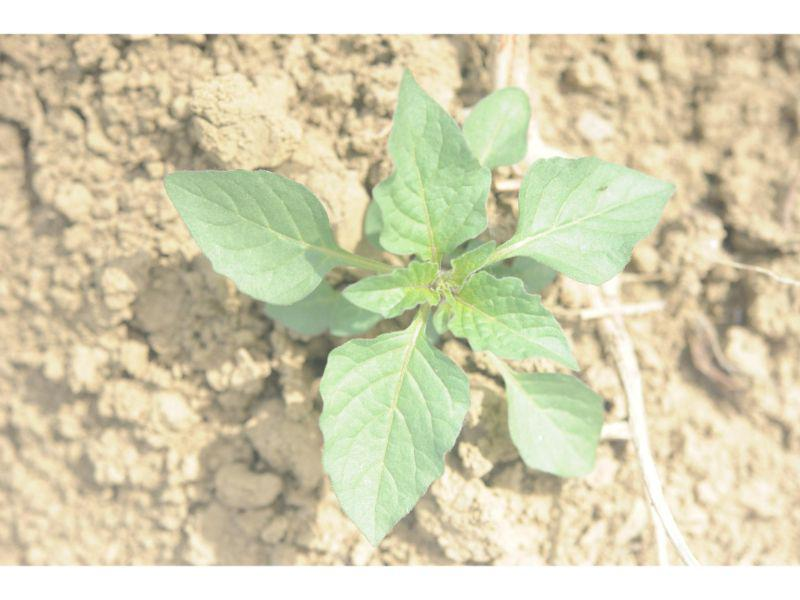nightshade: (163, 67, 677, 544)
